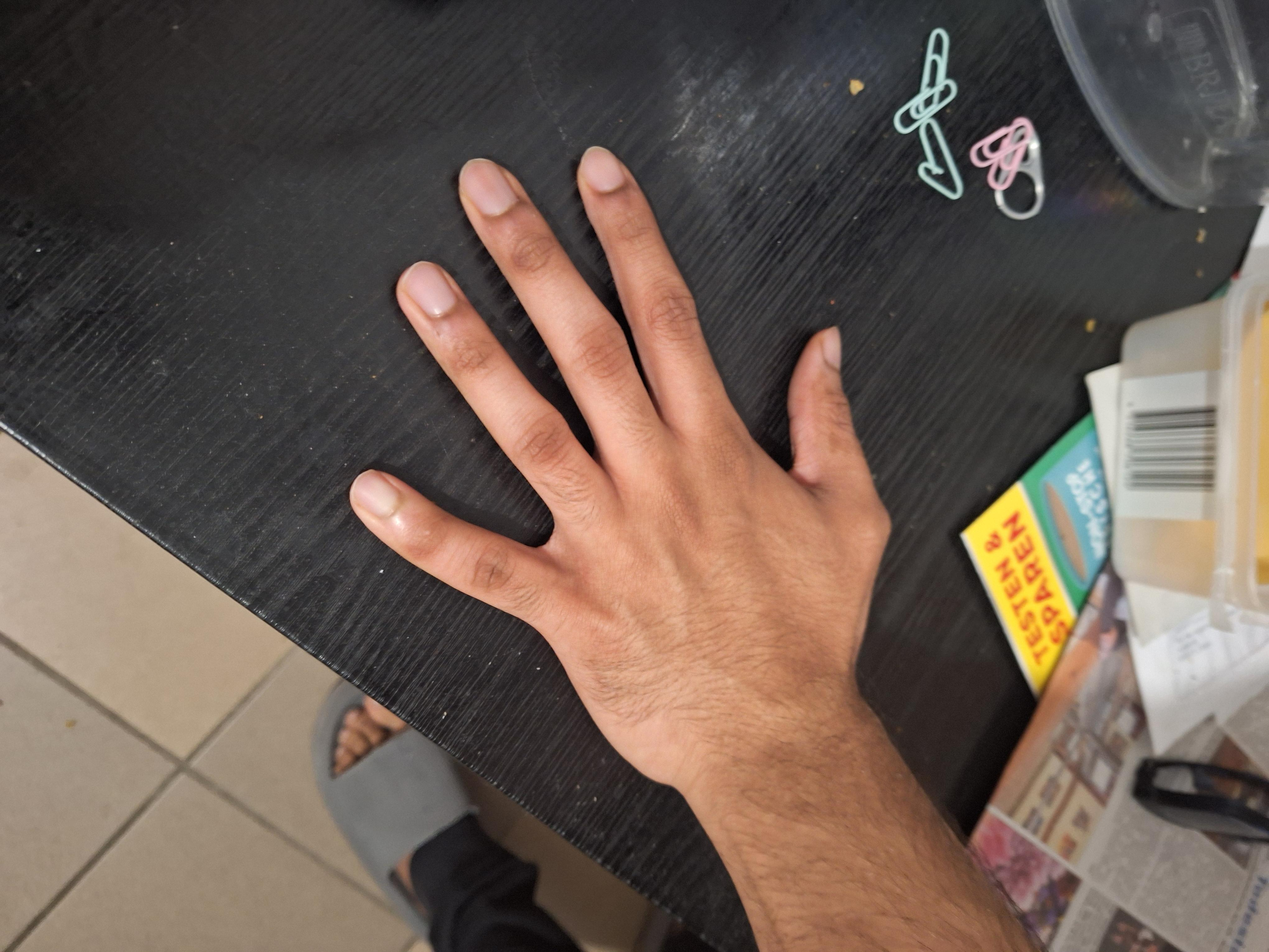Fingernail: (460, 158, 519, 217), (401, 262, 458, 317), (353, 470, 404, 520), (580, 147, 626, 193), (820, 326, 841, 371)
